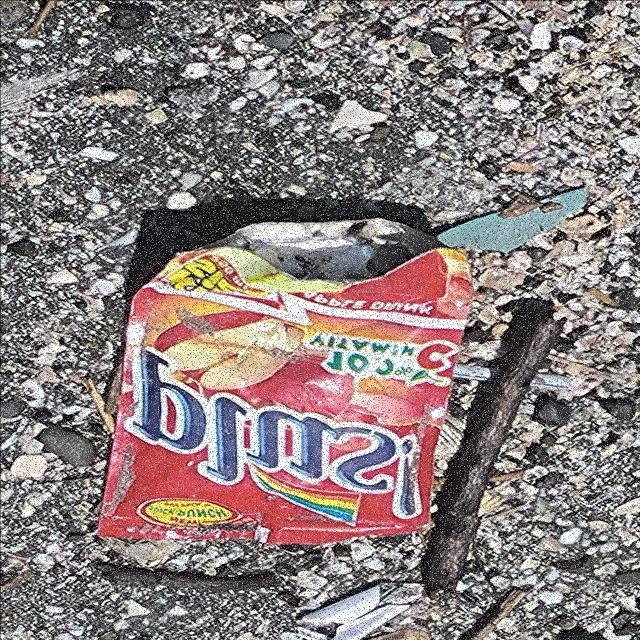plastic_waste: (96, 217, 476, 547)
